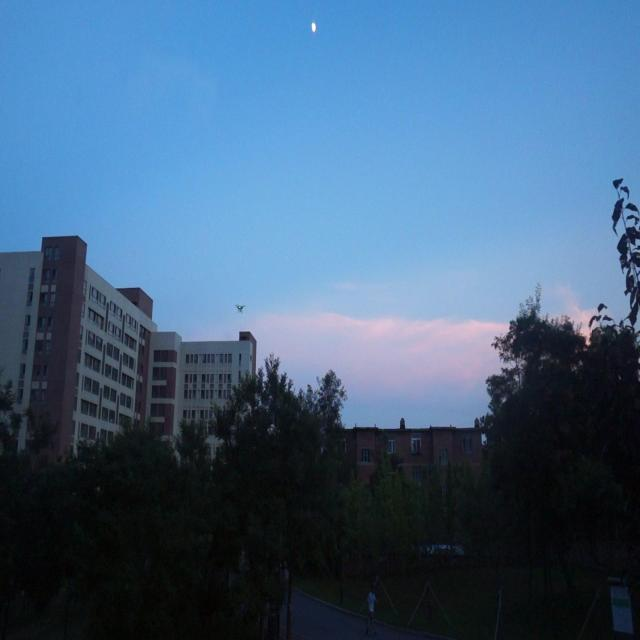drone: (234, 300, 247, 319)
